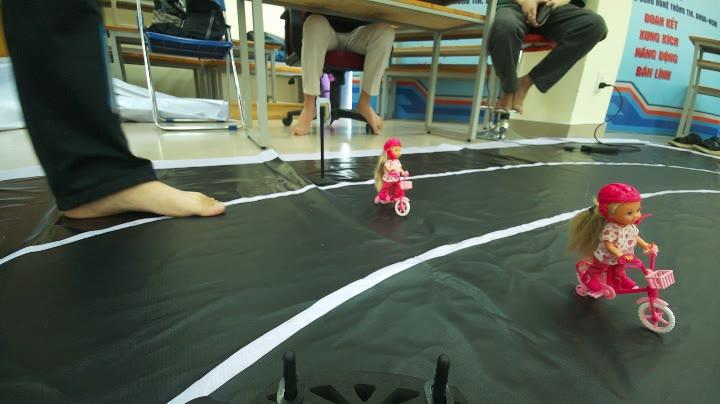pedestrian: (576, 180, 682, 354), (376, 141, 418, 217)
